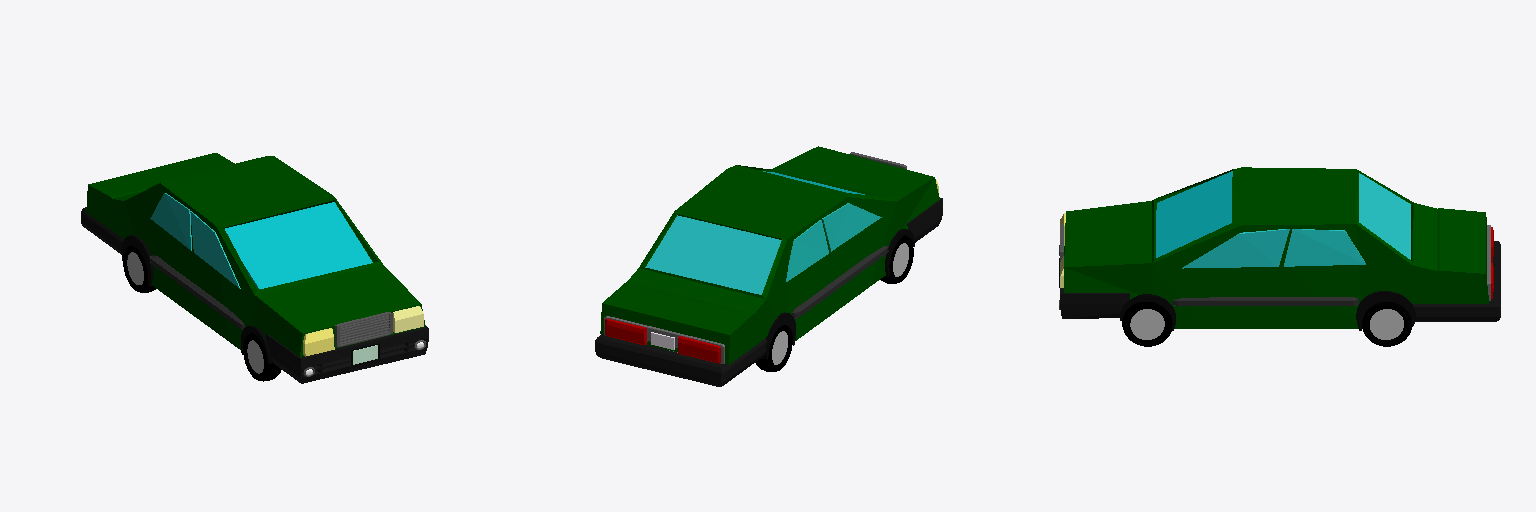
Rendered from enemy03.obj.
The picture shows the model from 3 angles: view 1: azimuth 30°, elevation 25°; view 2: azimuth 150°, elevation 25°; view 3: azimuth 270°, elevation 25°; orthographic projection.
Visible parts, largest first — view 1: Cube, 立方体.012_立方体.015, 立方体_立方体.001, 立方体.010_立方体.011, 立方体.005_立方体.006, 立方体.014_立方体.017, 立方体.006_立方体.007, 立方体.003_立方体.004, 立方体.004_立方体.005, Torus.005_Torus.008; view 2: Cube, 立方体.013_立方体.016, 立方体.006_立方体.007, 立方体.010_立方体.011, 立方体.007_立方体.008, 立方体.014_立方体.017, 立方体_立方体.001, Torus.006_Torus.009, 立方体.008_立方体.009; view 3: Cube, 立方体.011_立方体.014, 立方体.012_立方体.015, 立方体.013_立方体.016, 立方体.006_立方体.007, 立方体_立方体.001, 立方体.014_立方体.017, Torus.003, Torus.004_Torus.007, 円柱.002, 円柱.003_円柱.006, 円柱.001.
Boxes of the visible parts, box(x1,y1,x2,y2) form: Cube: box(86, 153, 425, 356); 立方体.012_立方体.015: box(225, 202, 372, 289); 立方体_立方体.001: box(266, 326, 428, 383); 立方体.010_立方体.011: box(150, 193, 240, 288); 立方体.005_立方体.006: box(335, 312, 392, 346); 立方体.014_立方体.017: box(150, 255, 244, 329); 立方体.006_立方体.007: box(81, 207, 123, 254); 立方体.003_立方体.004: box(303, 328, 334, 356); 立方体.004_立方体.005: box(393, 306, 423, 332); Torus.005_Torus.008: box(243, 333, 281, 381); Cube: box(600, 146, 939, 364); 立方体.013_立方体.016: box(645, 215, 781, 294); 立方体.006_立方体.007: box(595, 334, 766, 386); 立方体.010_立方体.011: box(786, 203, 881, 281); 立方体.007_立方体.008: box(605, 319, 720, 363); 立方体.014_立方体.017: box(792, 246, 888, 318); 立方体_立方体.001: box(907, 197, 942, 242); Torus.006_Torus.009: box(755, 325, 792, 371); 立方体.008_立方体.009: box(604, 316, 724, 363); Cube: box(1064, 167, 1488, 328); 立方体.011_立方体.014: box(1182, 229, 1365, 268); 立方体.012_立方体.015: box(1156, 171, 1232, 257); 立方体.013_立方体.016: box(1359, 173, 1410, 259); 立方体.006_立方体.007: box(1413, 241, 1500, 321); 立方体_立方体.001: box(1060, 288, 1129, 318); 立方体.014_立方体.017: box(1173, 297, 1358, 305); Torus.003: box(1122, 302, 1172, 346); Torus.004_Torus.007: box(1362, 302, 1412, 346); 円柱.002: box(1130, 309, 1164, 339); 円柱.003_円柱.006: box(1370, 309, 1403, 339); 円柱.001: box(1356, 291, 1415, 330).
Bounding box in the file's own units: 2.93 × 2.44 × 8.17.